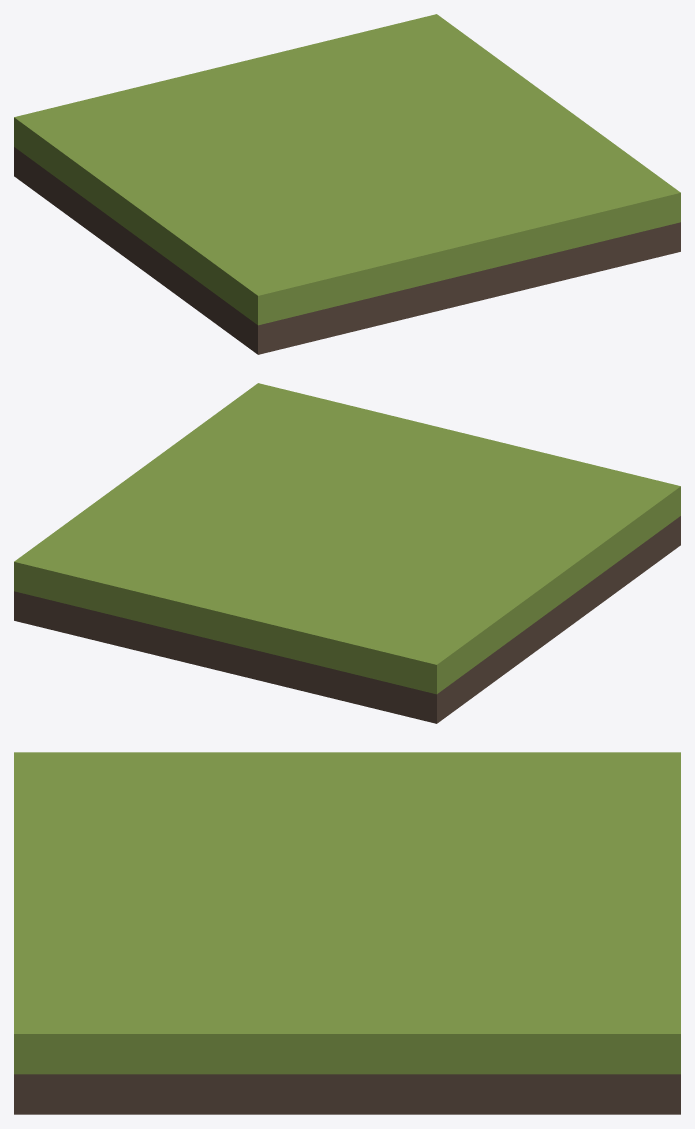
Rendered from grass-tile_01.fbx.
3 renders of one model, top to bottom at view 1: azimuth 30°, elevation 25°; view 2: azimuth 150°, elevation 25°; view 3: azimuth 270°, elevation 25°, orthographic. The views are drawn at different scales.
Visible parts, largest first — view 1: grass-tile_01; view 2: grass-tile_01; view 3: grass-tile_01.
Part boxes in pixels (box(x1,y1,x2,y2)): grass-tile_01: box(14, 14, 680, 354); grass-tile_01: box(14, 383, 680, 723); grass-tile_01: box(14, 752, 680, 1114).
Size of the model in its own units: 3000 by 400 by 3000.
